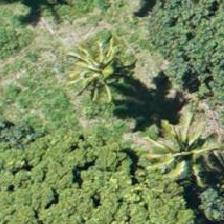coconut_tree: (69, 22, 159, 112), (139, 116, 223, 206)
